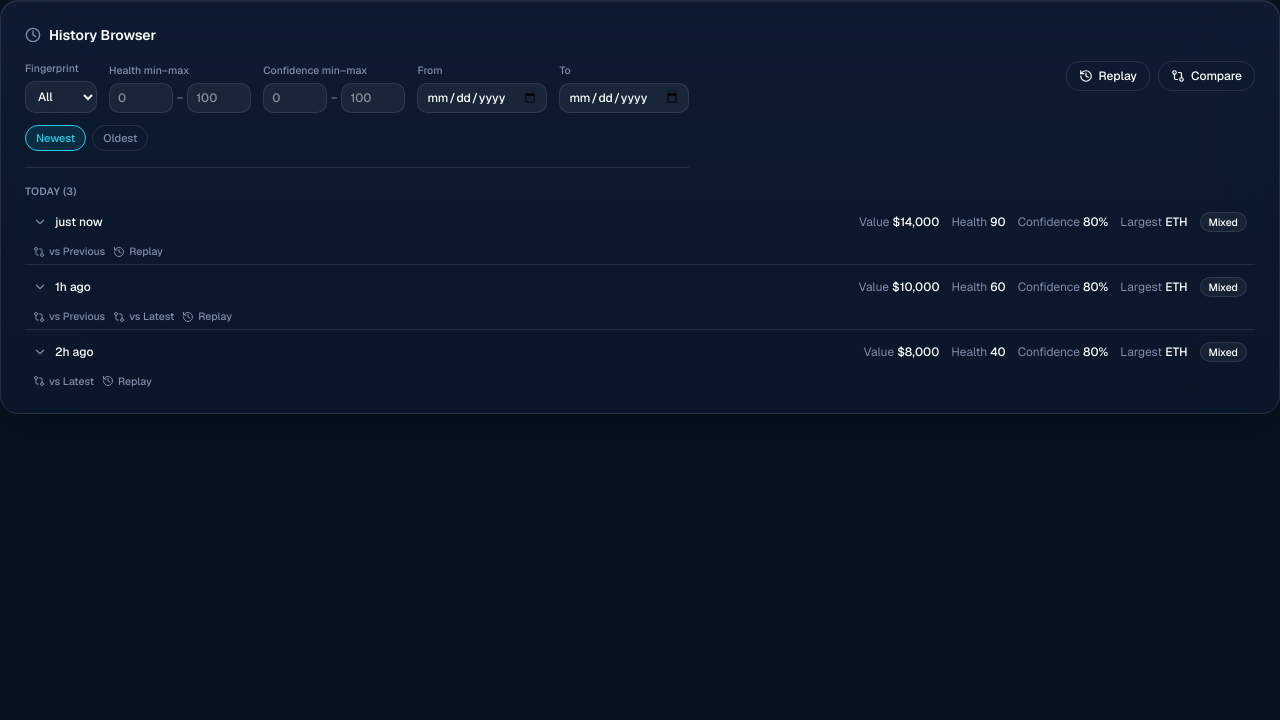
Test: HistoryBrowserSection — V4-HISTORY-003 Snapshot Compare › QUICK COMPARE: 'vs Previous' immediately opens a real comparison against the real chronologically-previous snapshot
The width and height of the screenshot is (1280, 720).
What coordinates should you click on to do the following:
click the 2nd button "vs Previous"
I would click on:
 (69, 317)
Its box is top-left (33, 309), bottom-right (105, 325).
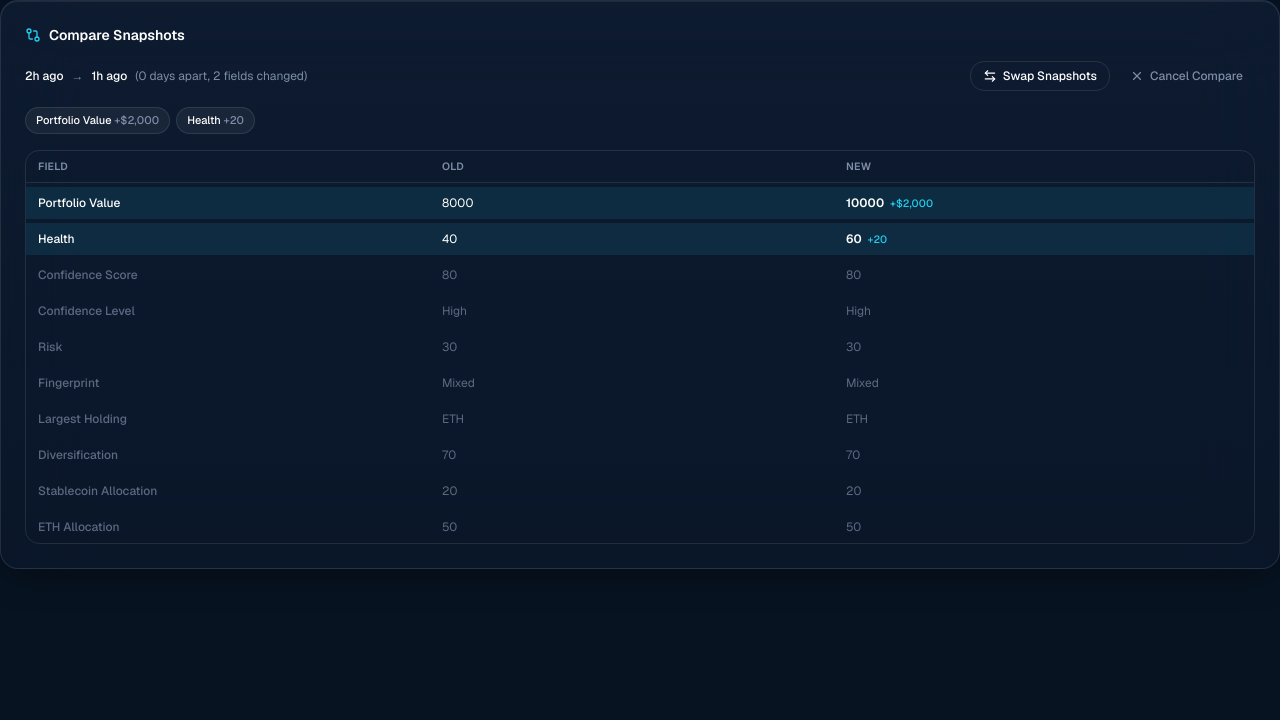
Check: the text "+20" is shown 2 times, box top-left (224, 113), bottom-right (244, 127); top-left (868, 232), bottom-right (887, 246)
Check: the heading "Compare Snapshots" is shown, box top-left (49, 25), bottom-right (185, 45)
